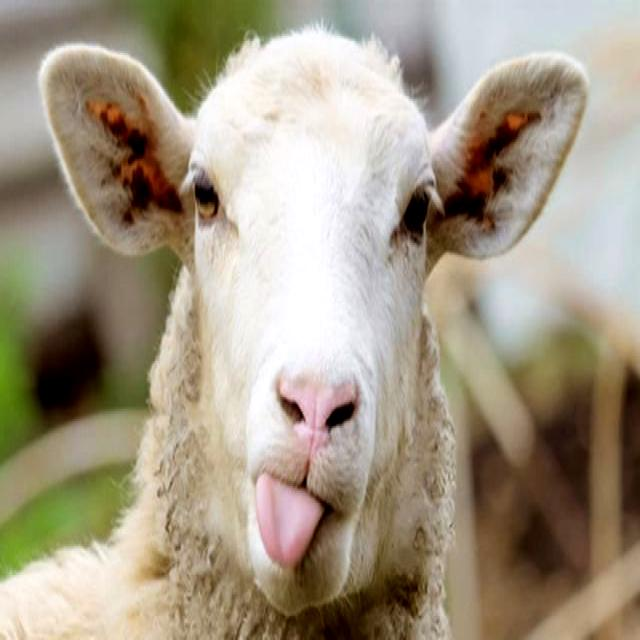sheep: (0, 30, 591, 637)
